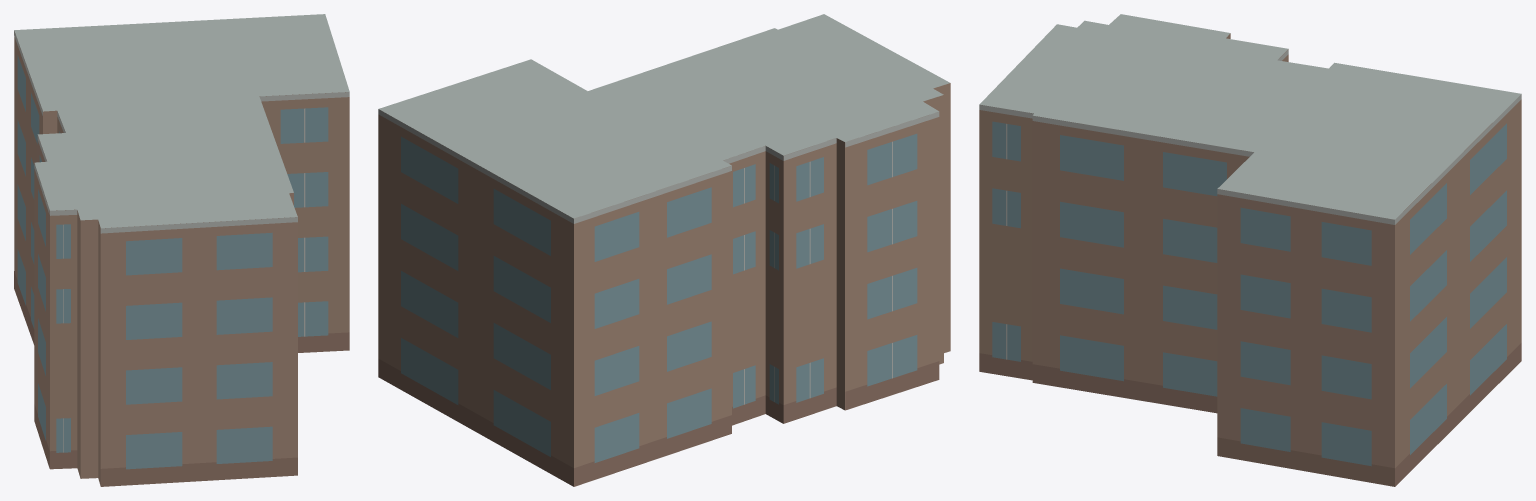
File: survey-upis-32653914.glb
The picture shows the model from 3 angles, left to right: view 1: azimuth 30°, elevation 25°; view 2: azimuth 150°, elevation 25°; view 3: azimuth 270°, elevation 25°; orthographic projection. The views are drawn at different scales.
Parts seen in each view (by area): view 1: survey-upis-32653914.tmp; view 2: survey-upis-32653914.tmp; view 3: survey-upis-32653914.tmp.
Part boxes in pixels (<box>): survey-upis-32653914.tmp: <box>14,14,349,486</box>; survey-upis-32653914.tmp: <box>378,14,950,486</box>; survey-upis-32653914.tmp: <box>979,14,1521,486</box>.
Size of the model in its own units: 20.16 by 12.2 by 22.46.
